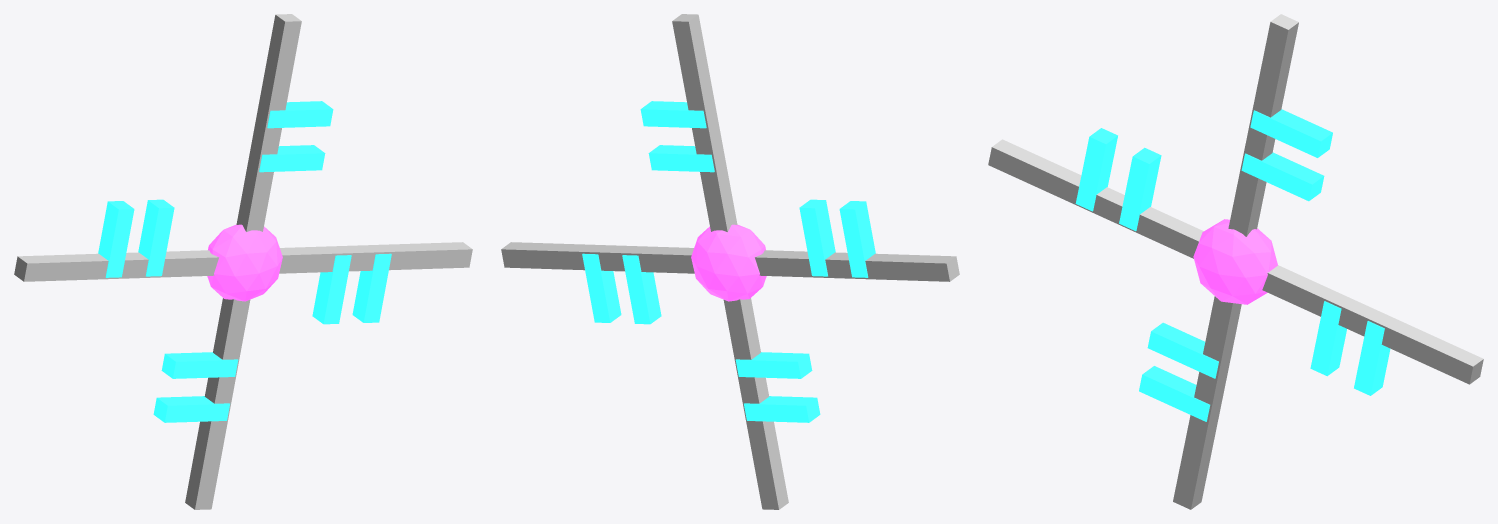
The picture shows the model from 3 angles, left to right: view 1: azimuth 30°, elevation 25°; view 2: azimuth 150°, elevation 25°; view 3: azimuth 330°, elevation 25°; orthographic projection. The views are drawn at different scales.
Visible parts, largest first — view 1: Neon_WindmillRotor_Standard; view 2: Neon_WindmillRotor_Standard; view 3: Neon_WindmillRotor_Standard.
Boxes of the visible parts, x1,y1,x2,y2 form: Neon_WindmillRotor_Standard: [14, 14, 472, 509]; Neon_WindmillRotor_Standard: [501, 14, 959, 509]; Neon_WindmillRotor_Standard: [988, 14, 1483, 509].
Bounding box in the file's own units: 1.98 × 1.98 × 0.24.
